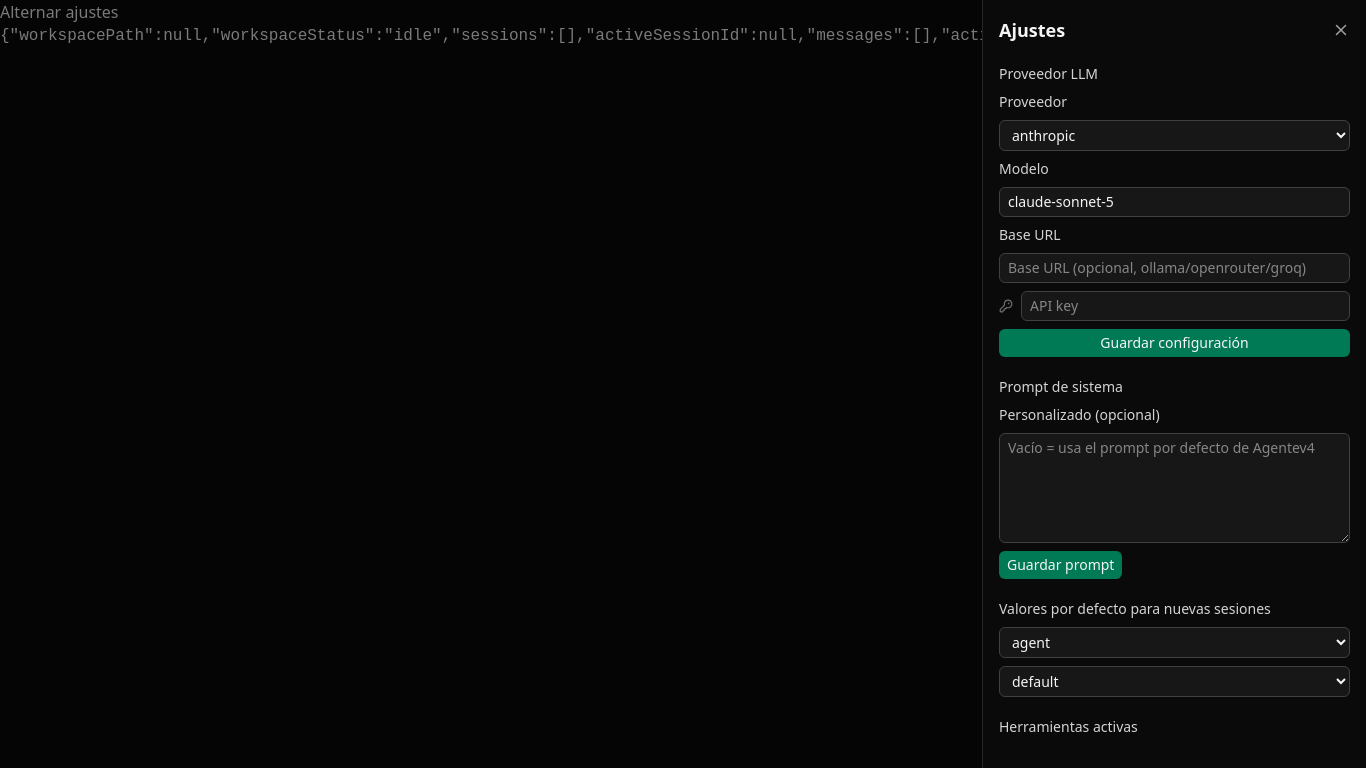
Test case: system prompt save flow (Fase 2/3) › saves a trimmed override and shows a success notification
Type "  Sé breve.  " into the text box labelled "Personalizado (opcional)".
click(1174, 488); type("  Sé breve.  ")  # box [999,433,1350,543]
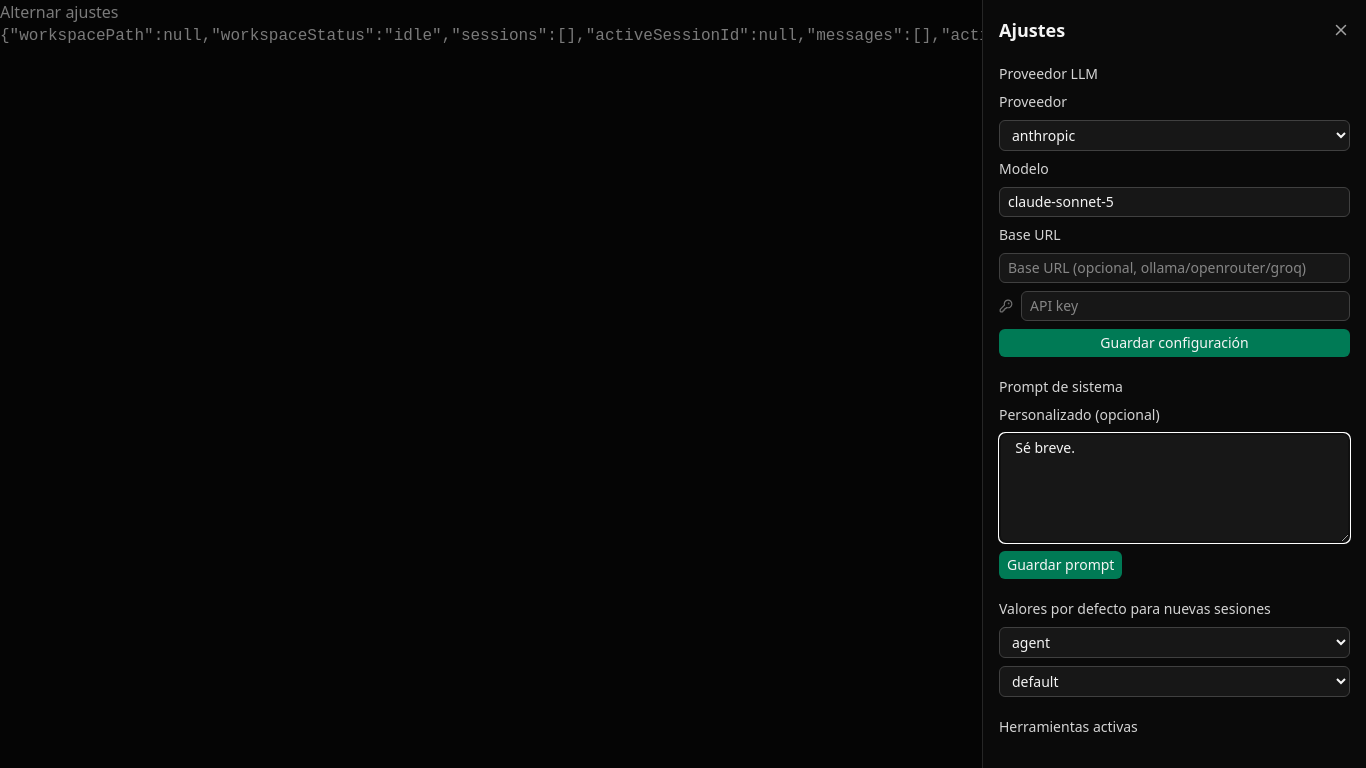
Click the button "Guardar prompt".
click(1061, 565)  # box [999,551,1122,579]
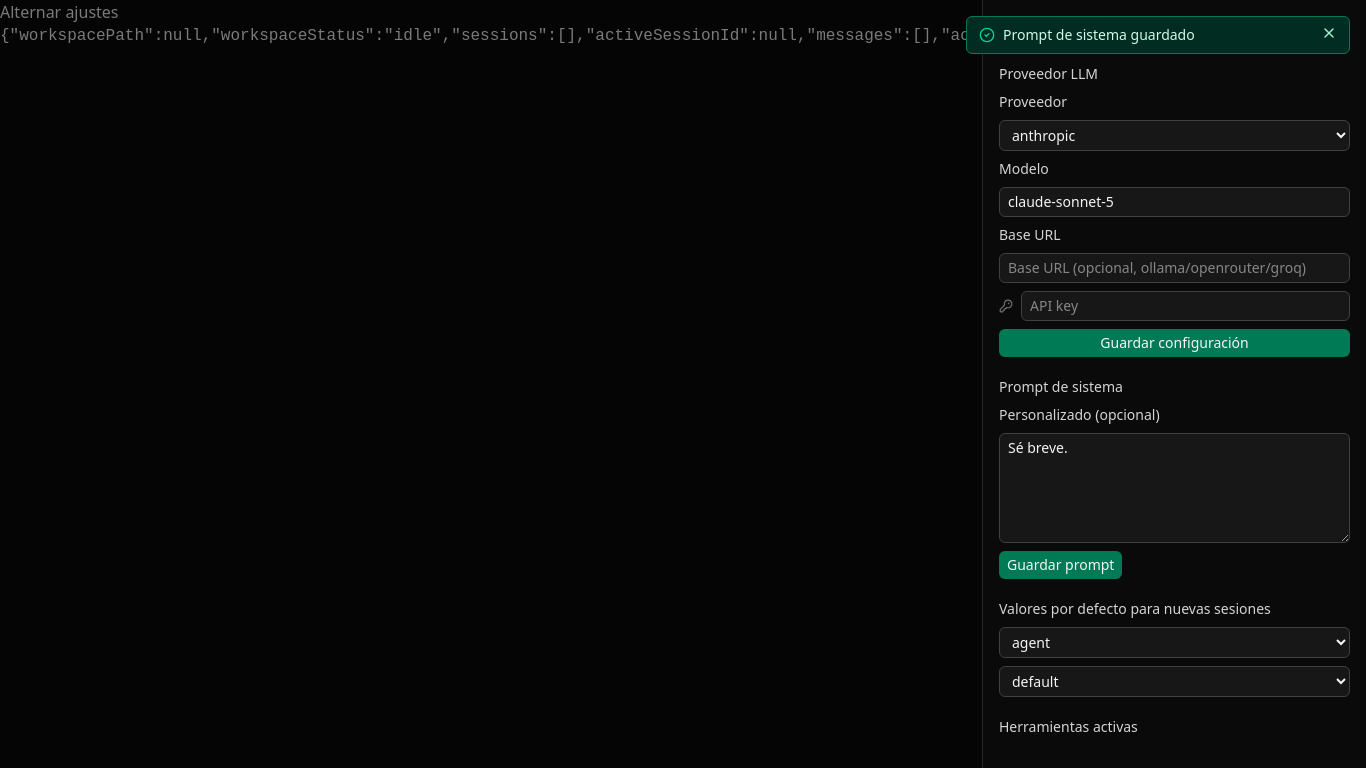
Expected: the text "Prompt de sistema guardado" is shown, [1003,25,1195,44]
